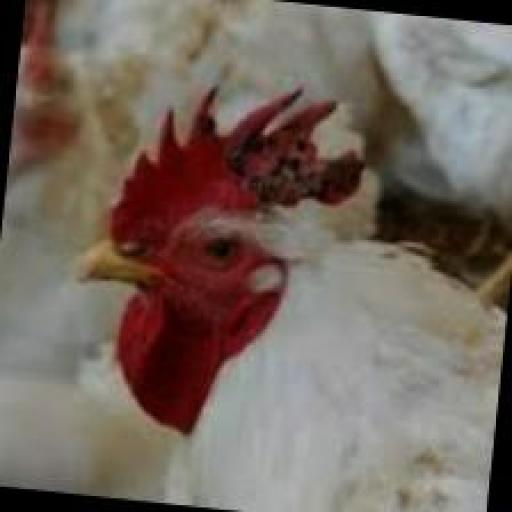disease: (123, 85, 363, 215)
